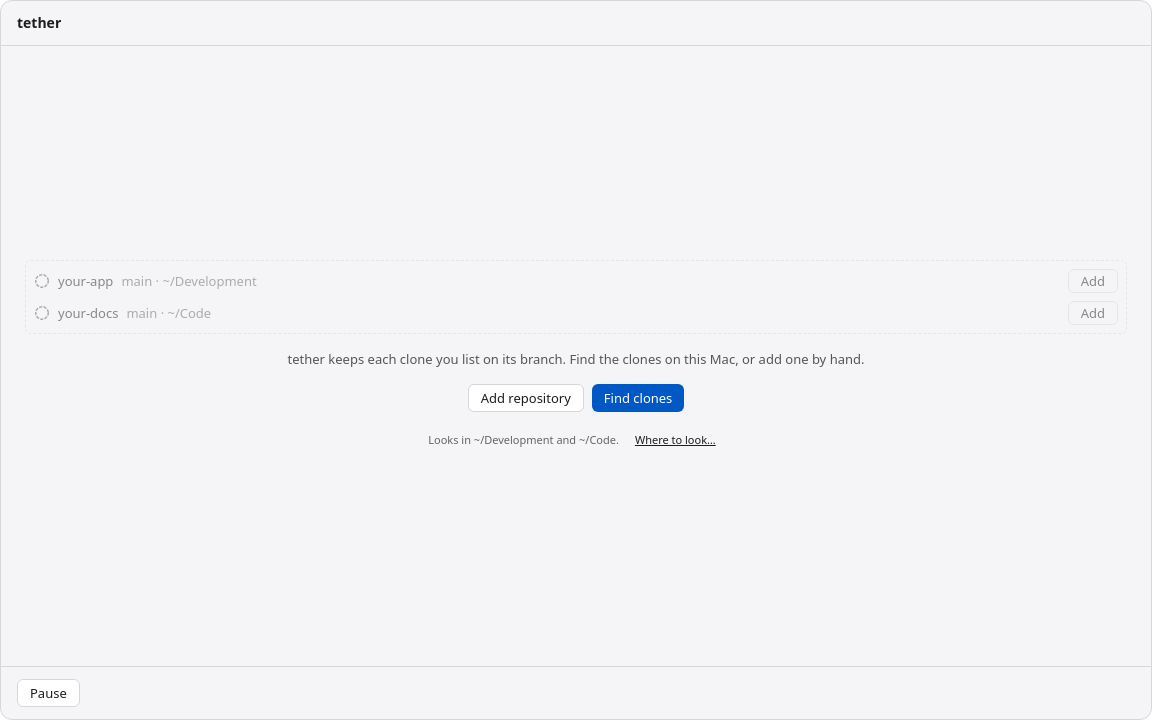
Test case: Popover › offers to find or add a repository when nothing is listed, with only Pause in the footer
Expected: the text "tether keeps each clone you list on its branch. Find the clones on this Mac, or add one by hand." is shown, [288,350,864,368]
Expected: the button "Find clones" is shown, [592,384,684,412]
Click the button "Add repository". click: (526, 398)
box: [468,384,584,412]
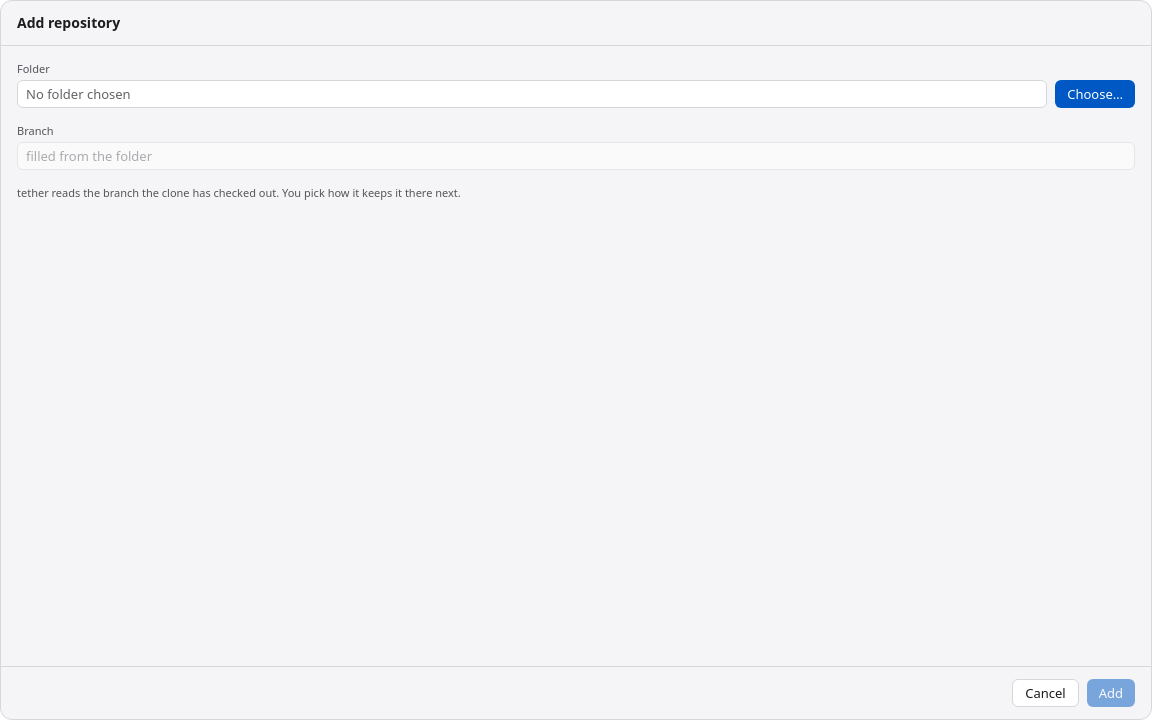
Now the form named "Add repository" is shown
